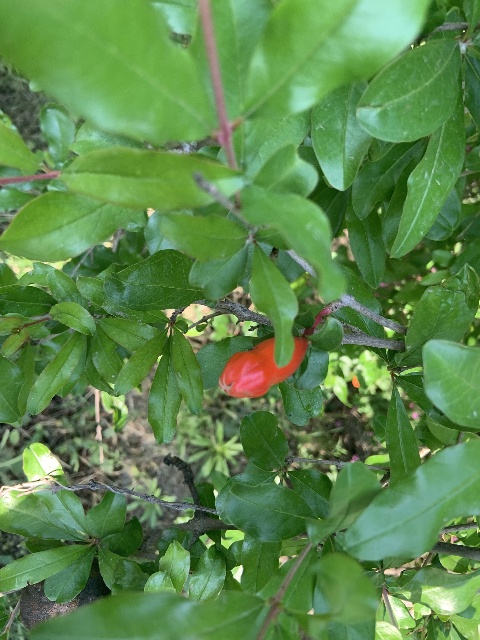bud: (219, 336, 307, 398)
